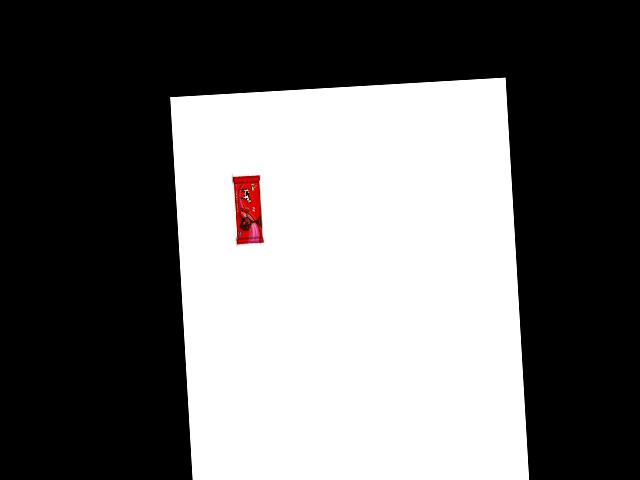chocolate: (227, 170, 263, 244)
